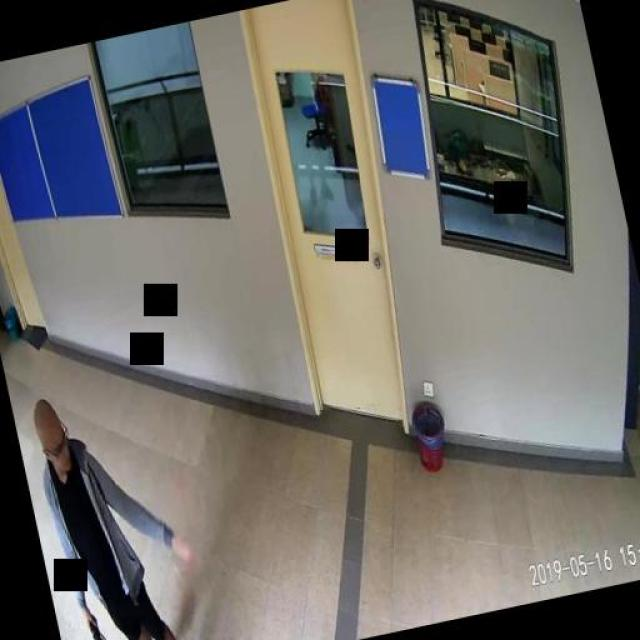gun: (84, 606, 118, 640)
